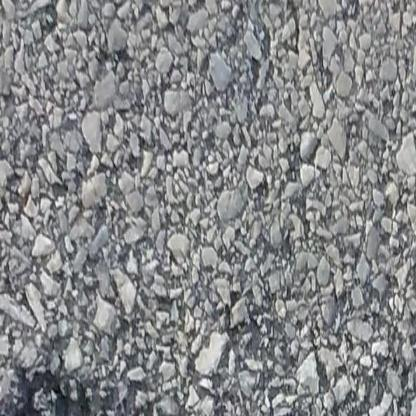Cracks: (0, 368, 158, 416)
